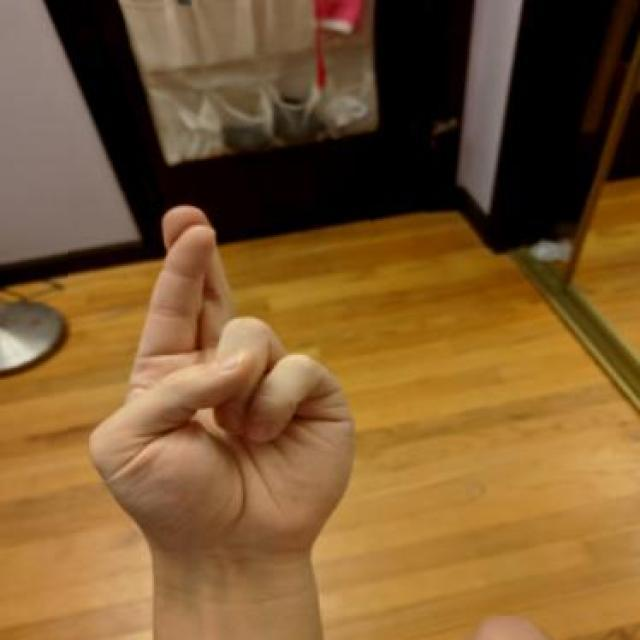R: (68, 192, 370, 582)
